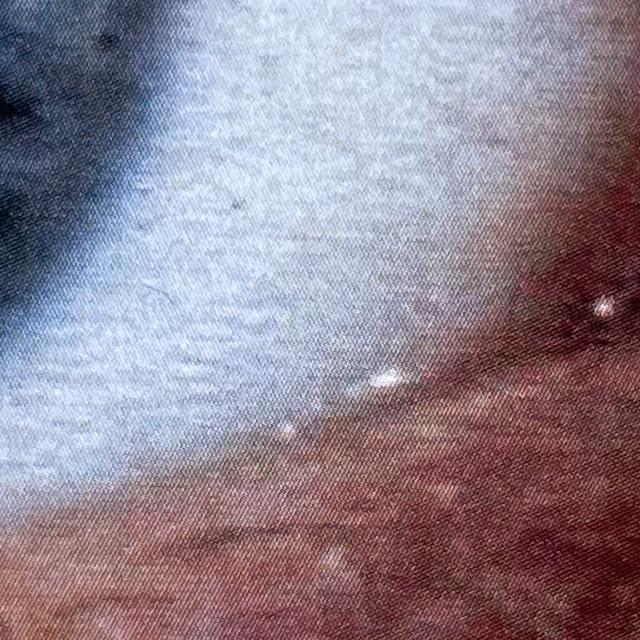eye: (0, 0, 640, 632)
iris: (0, 0, 193, 508)
